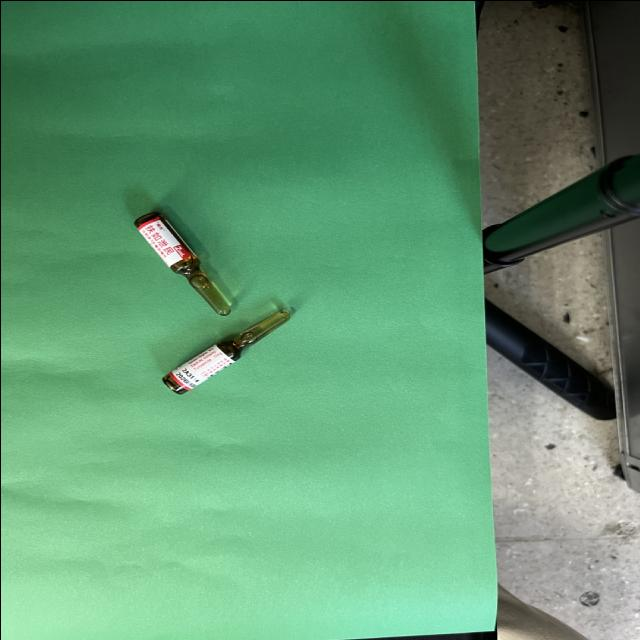Ampoules: (162, 310, 289, 393), (134, 212, 229, 314)
